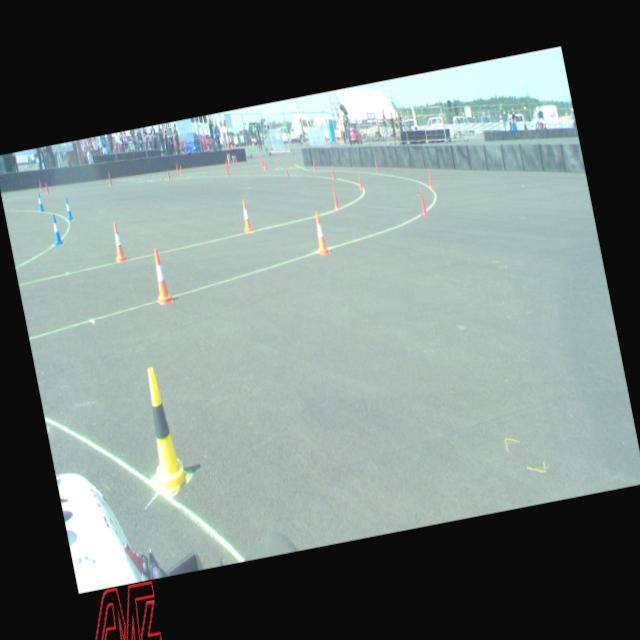blue_cone: (49, 212, 63, 245), (62, 195, 74, 222), (36, 191, 45, 213)
orange_cone: (148, 246, 174, 306), (310, 210, 331, 258), (109, 220, 128, 264), (238, 198, 253, 234)
unknown_cone: (416, 187, 428, 217), (330, 184, 340, 210), (356, 172, 364, 192), (426, 168, 434, 188), (330, 164, 336, 181), (106, 170, 112, 187), (374, 160, 380, 176), (283, 162, 289, 177), (224, 164, 230, 176), (44, 181, 49, 194), (38, 179, 43, 192), (312, 158, 317, 171), (166, 168, 171, 180), (263, 160, 267, 172), (176, 162, 180, 173), (260, 158, 264, 169), (259, 156, 263, 166), (180, 164, 183, 176), (226, 160, 228, 170)
yellow_cone: (129, 363, 193, 498)
